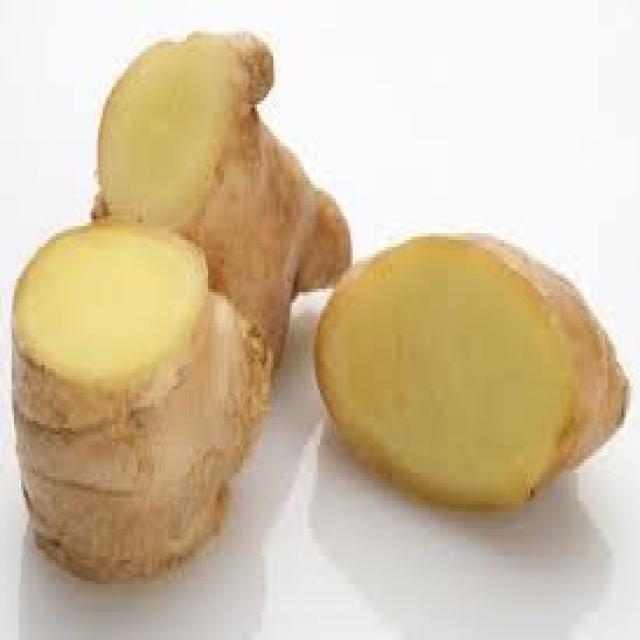ginger: (7, 14, 638, 616)
